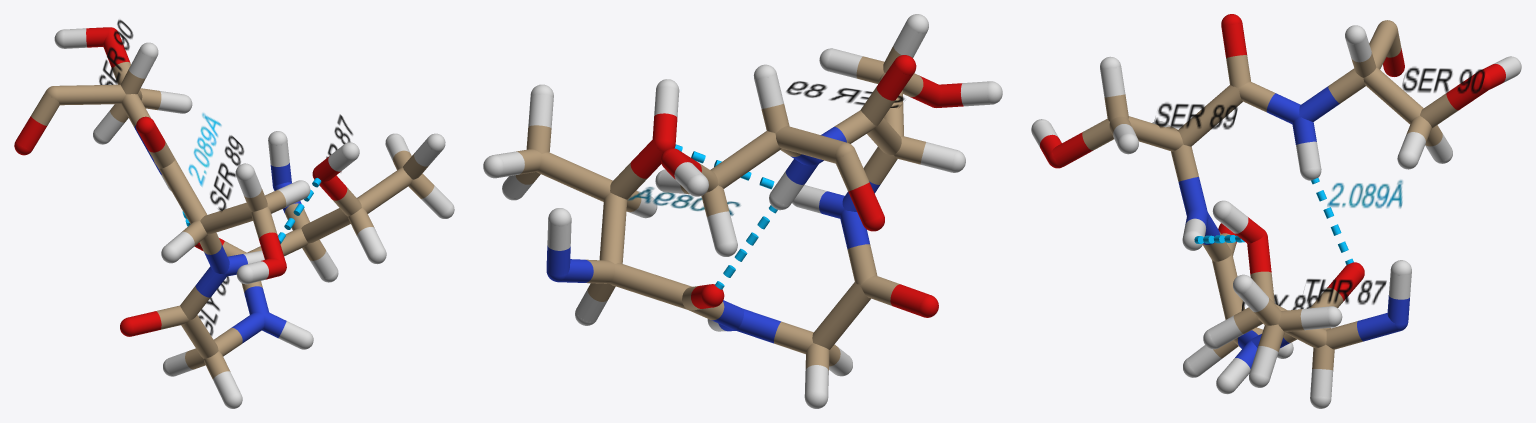
File: 7rsa_turn1_turn.glb
The picture shows the model from 3 angles, left to right: view 1: azimuth 30°, elevation 25°; view 2: azimuth 150°, elevation 25°; view 3: azimuth 270°, elevation 25°; orthographic projection. The views are drawn at different scales.
Parts seen in each view (by area): view 1: New_Node; view 2: New_Node; view 3: New_Node.
Part boxes in pixels (x1=…): New_Node: x1=14, y1=19, x2=454, y2=408; New_Node: x1=483, y1=14, x2=1002, y2=408; New_Node: x1=1031, y1=14, x2=1521, y2=408.
Bounding box in the file's own units: 293494 × 233415 × 300688.
Materials: 4 (2 with a texture image).
